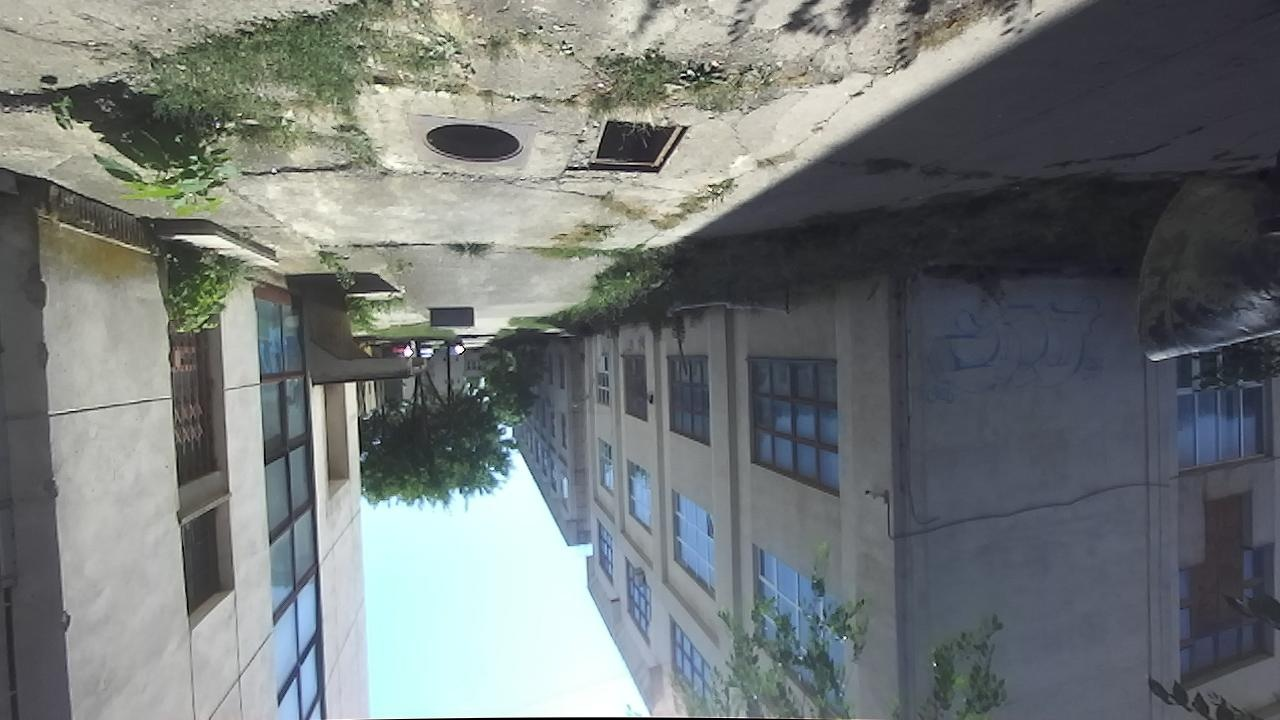drain: (581, 118, 694, 177), (416, 119, 532, 167)
